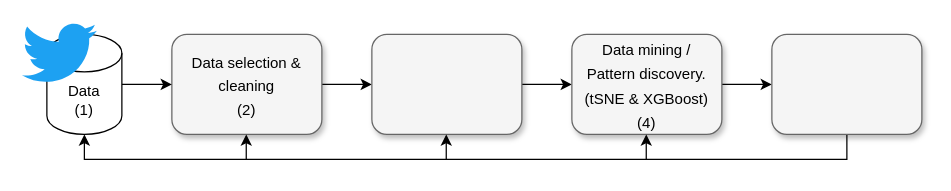
The diagram is 951 pixels wide and 191 high, and some of its shapes have lost their labels. Here are the shapes that lost their labels. From the top down, the centre of each, then its label:
At point (447, 85): "Data transformation (3)".
At point (847, 85): "Interpretation / evaluation (5)".
